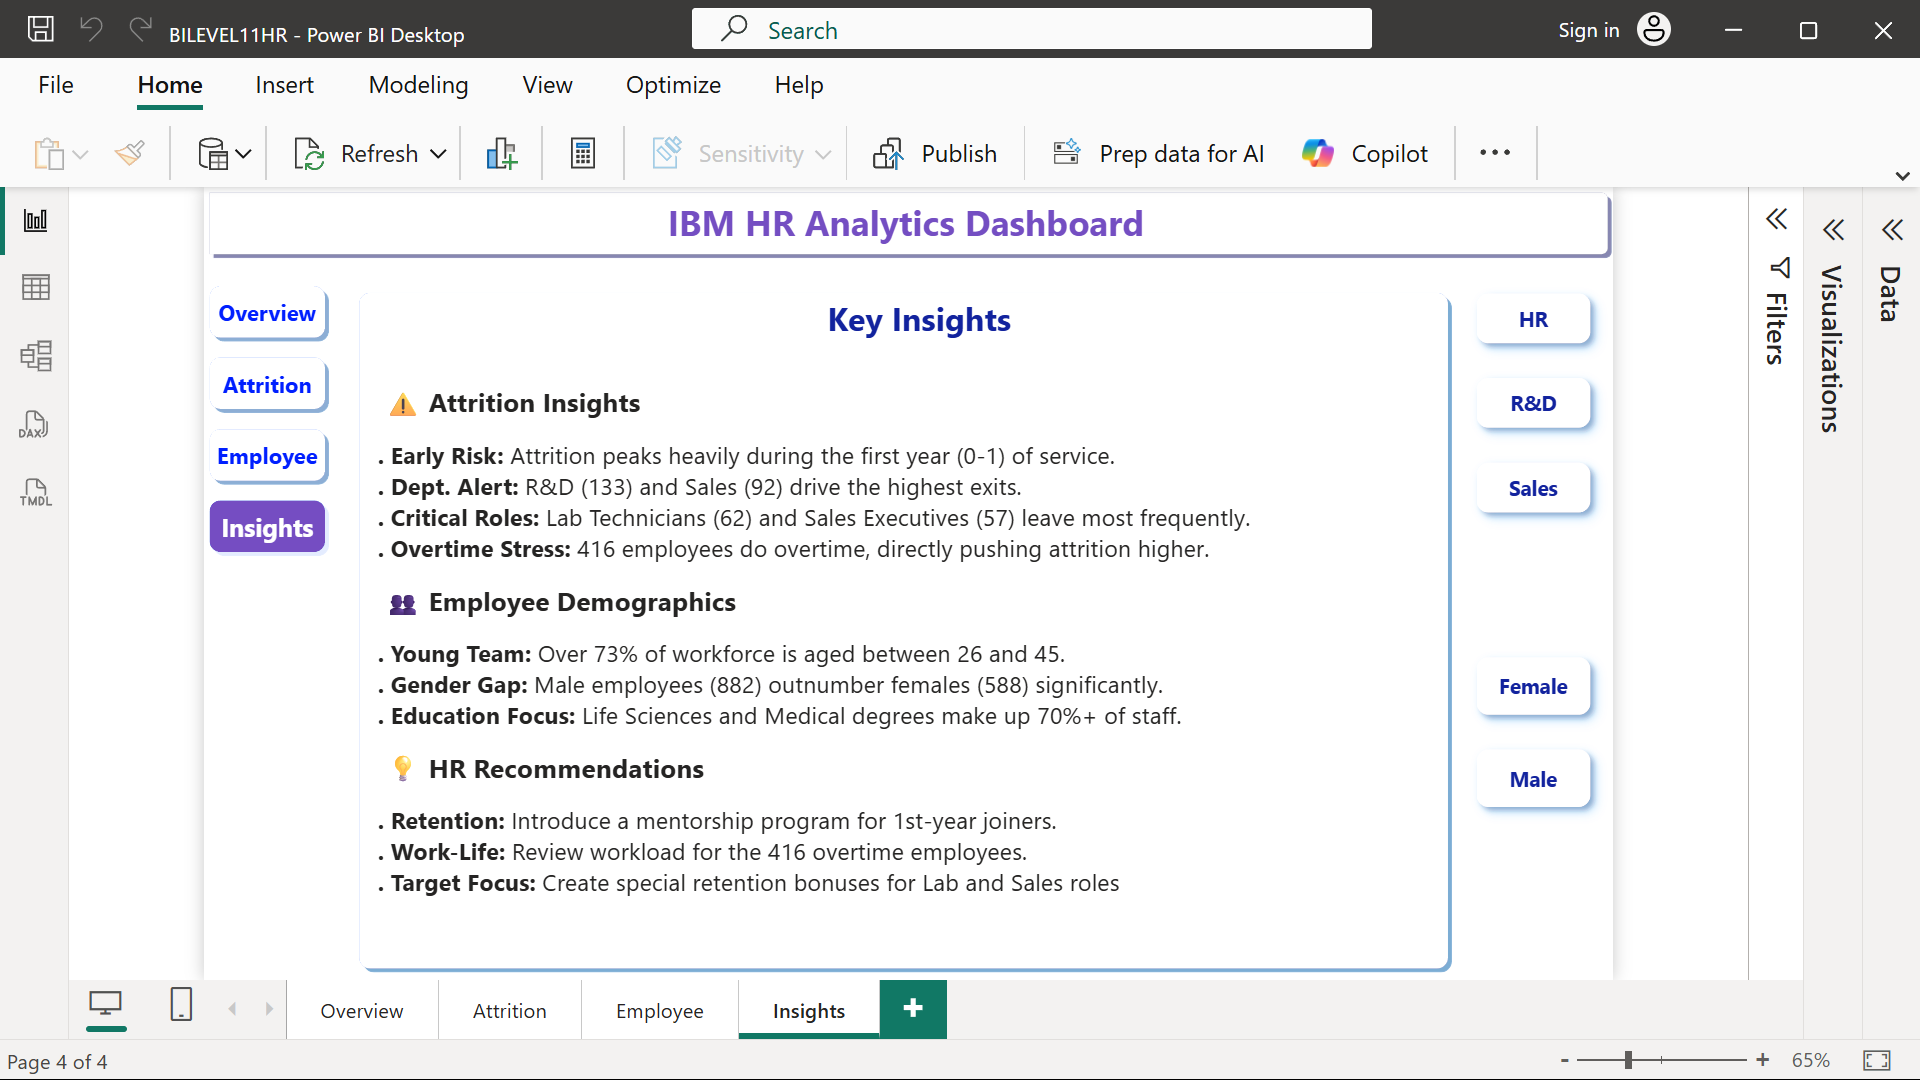

The page's visual inventory and layout, read from the dashboard file:
{"tool":"powerbi","page":{"name":"Insights","canvas":[1280,720],"ordinal":3},"visuals":[{"type":"shape","box":[135.9,91.1,999,623.8],"z":0},{"type":"pageNavigator","box":[0,84.6,115.9,252],"z":1000},{"type":"shape","box":[0,0,1280,66],"z":2000},{"type":"textbox","box":[8.7,4.3,1256.5,56.5],"z":3000},{"type":"advancedSlicerVisual","fields":{"Values":["hr data.Department"]},"box":[1134.6,75.4,145.4,242.9],"z":4000},{"type":"advancedSlicerVisual","fields":{"Values":["hr data.Gender"]},"box":[1134.6,406.6,145.4,178.5],"z":5000},{"type":"textbox","title":"Key Insights","box":[152.7,99.4,993.6,618.2],"z":6000}]}

Visuals, with their boxes on the page's 1280x720 design canvas (x1, y1, x2, y2). These are canvas units, not pixel positions in the 1920x1080 screenshot, which may show the page scaled, cropped or inside an application window:
shape: 136 91 1135 715
pageNavigator: 0 85 116 337
shape: 0 0 1280 66
textbox: 9 4 1265 61
advancedSlicerVisual - hr data.Department: 1135 75 1280 318
advancedSlicerVisual - hr data.Gender: 1135 407 1280 585
"Key Insights" textbox: 153 99 1146 718
